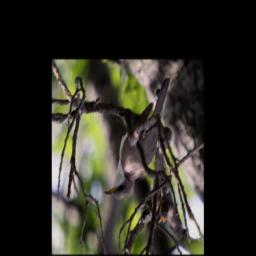Cuckoo: (103, 73, 170, 203)
